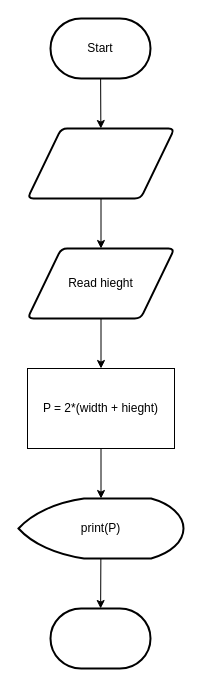
Some shapes in this 201 by 686 pixel diagram are drawn without their labels. Here are the shapes that lost their labels. From the top down, the box of each, then its label:
(26, 127, 175, 199): Read width
(49, 607, 151, 669): End
